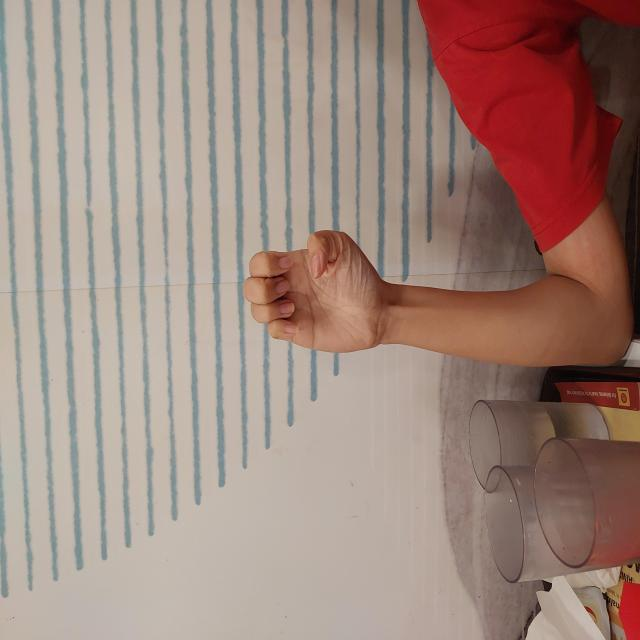E: (284, 242, 412, 387)
